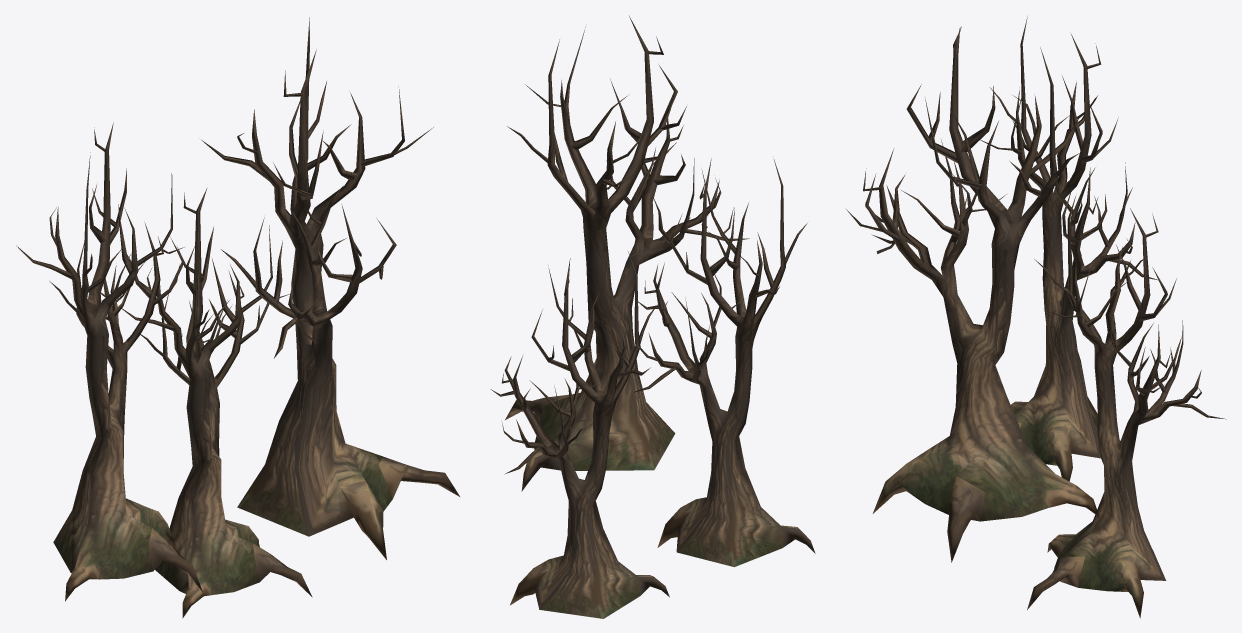
File: plants_tall_tree_trunks2.fbx
3 renders of one model, left to right at view 1: azimuth 30°, elevation 25°; view 2: azimuth 150°, elevation 25°; view 3: azimuth 270°, elevation 25°, orthographic. The views are drawn at different scales.
Visible parts, largest first — view 1: Material_#238683193/fancy_tree; view 2: Material_#238683193/fancy_tree; view 3: Material_#238683193/fancy_tree.
Part boxes in pixels (<box>): Material_#238683193/fancy_tree: <box>16,17,459,618</box>; Material_#238683193/fancy_tree: <box>490,16,815,618</box>; Material_#238683193/fancy_tree: <box>846,16,1226,618</box>.
Bounding box in the file's own units: 9.35 × 14.04 × 8.47.
